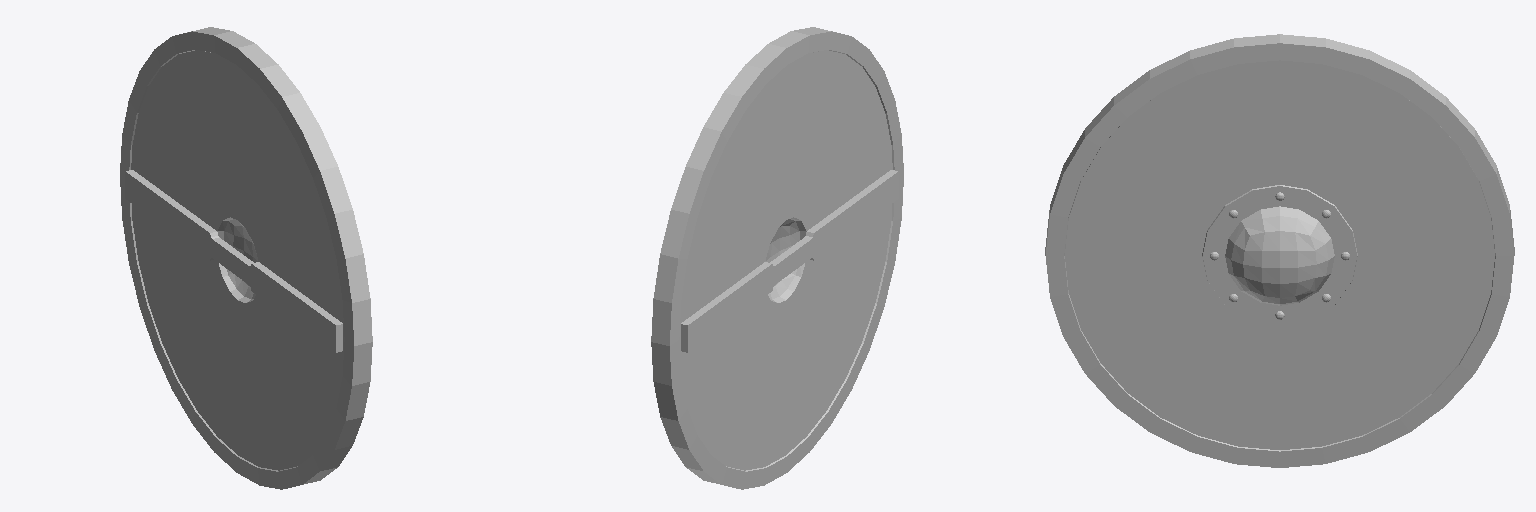
Rendered from round shield.obj.
3 views of the same model, side by side, from view 1: azimuth 30°, elevation 25°; view 2: azimuth 150°, elevation 25°; view 3: azimuth 270°, elevation 25° (orthographic).
Parts seen in each view (by area): view 1: round_shield; view 2: round_shield; view 3: round_shield.
Boxes of the visible parts, x1=… form: round_shield: x1=120, y1=27, x2=372, y2=489; round_shield: x1=651, y1=27, x2=903, y2=489; round_shield: x1=1045, y1=34, x2=1514, y2=467.
Bounding box in the file's own units: 0.0933 × 0.75 × 0.75.